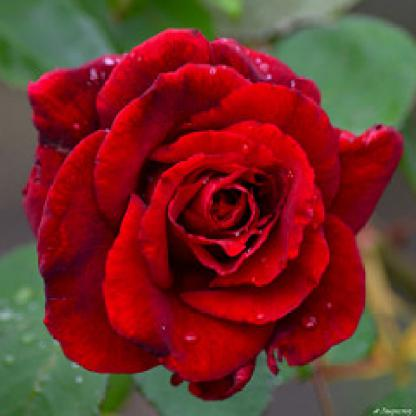Rose-Mawar: (8, 18, 403, 400)
